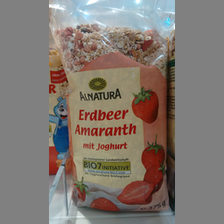cereal: (49, 22, 171, 213)
